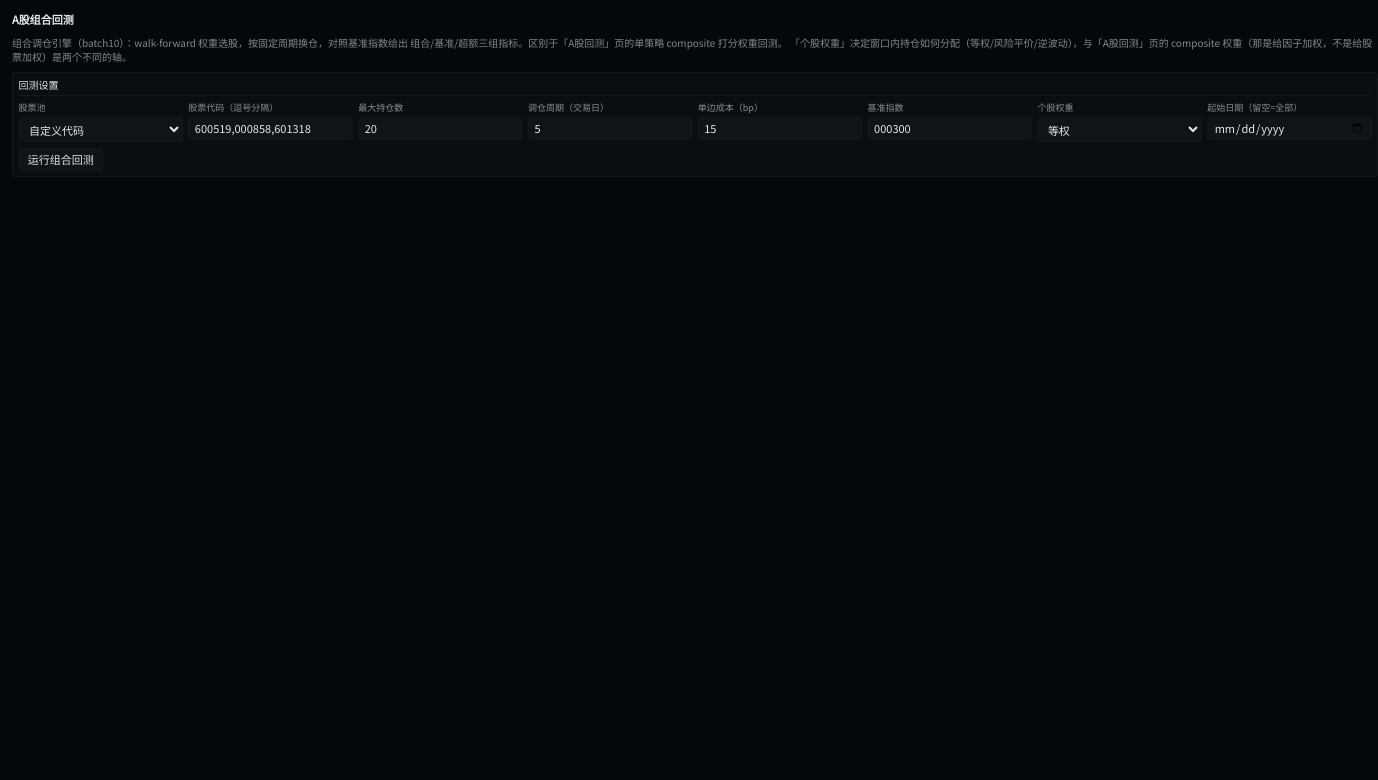
it: AsharePortfolioPage › 运行组合回测:POST 参数拼装正确,裸 dict 三组指标渲染到三个分区
Click the button "运行组合回测": x=61, y=159 [18,148,103,171]
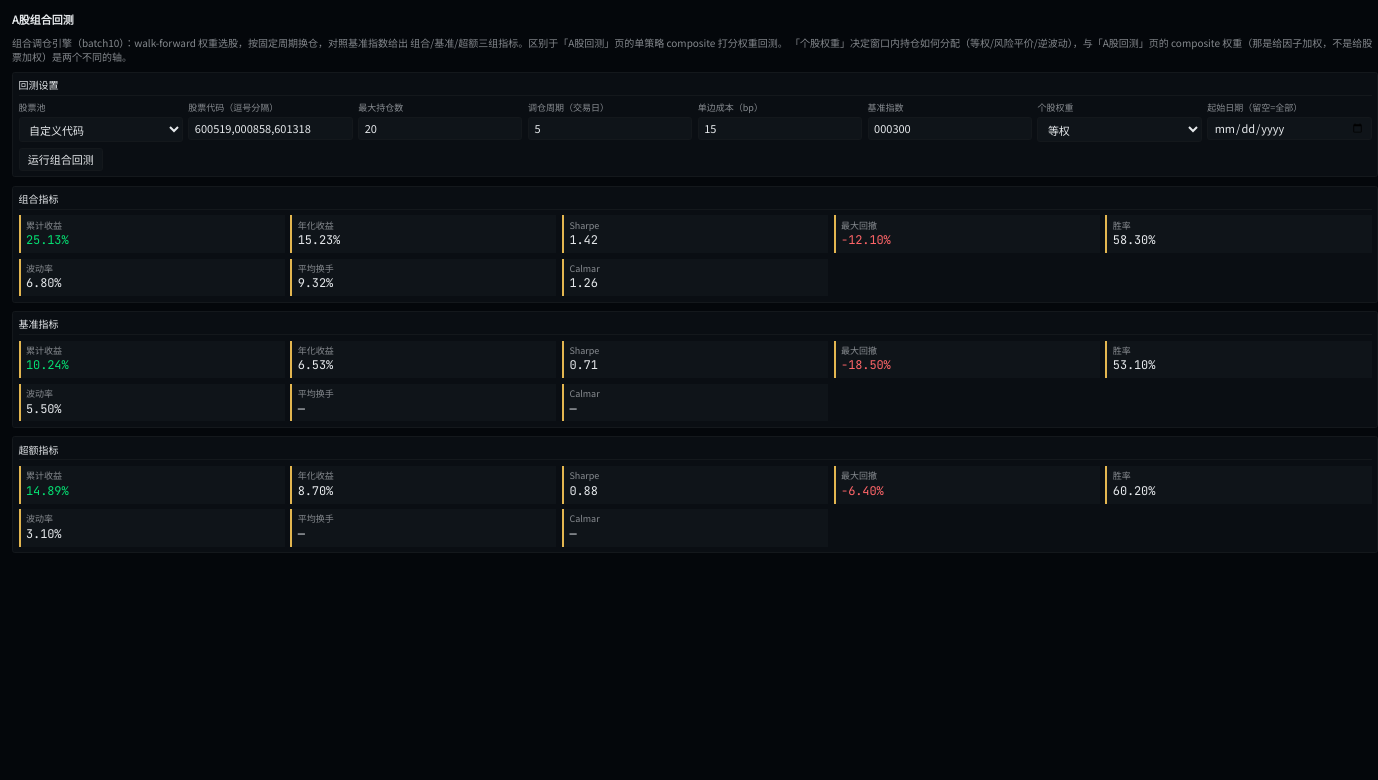
Result: the text "组合指标" is shown at [18,192,58,206]
Result: the text "基准指标" is shown at [18,317,58,331]
Result: the text "超额指标" is shown at [18,443,58,457]
